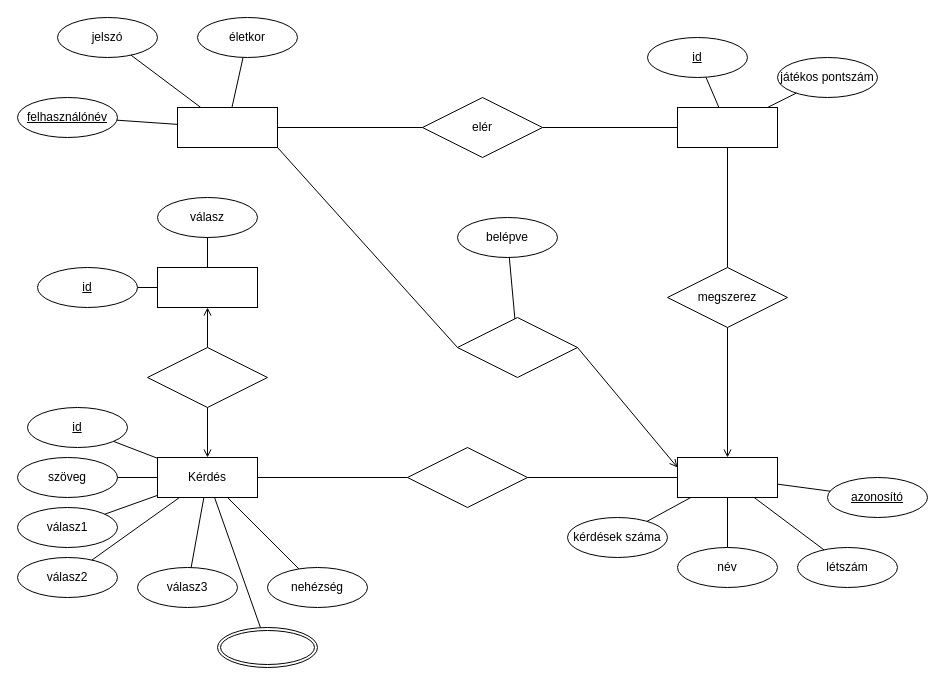
This 945x685 diagram has some shape labels left out. The shapes that lost their labels are listed below. From the top down, each one's centre as x and y in pixels, then its label:
the point at 227,127: Felhasználó
the point at 727,127: Pontszám
the point at 207,287: Helyes válasz
the point at 517,347: belép
the point at 207,377: megad
the point at 467,477: hozzá_rendel
the point at 727,477: Játék
the point at 267,647: témakör
